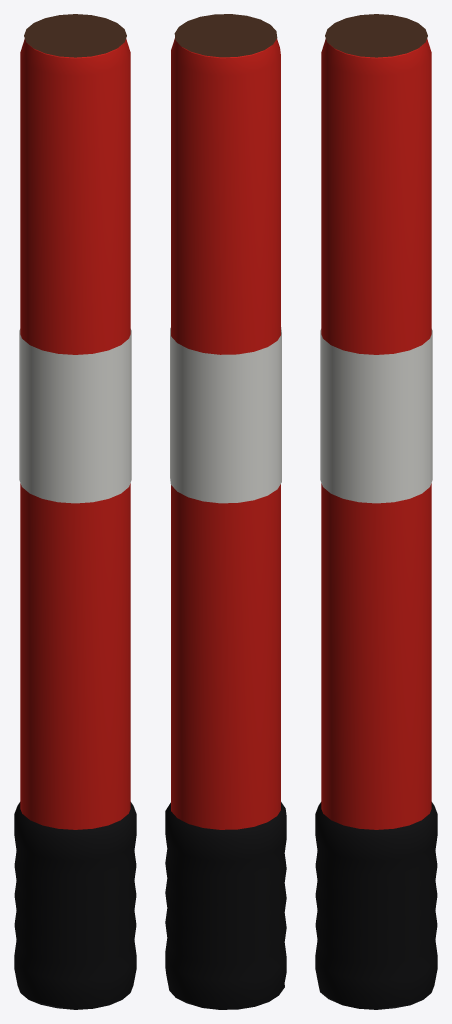
Rendered from flare.glb.
The picture shows the model from 3 angles, left to right: view 1: azimuth 90°, elevation 25°; view 2: azimuth 210°, elevation 25°; view 3: azimuth 270°, elevation 25°; orthographic projection.
Parts seen in each view (by area): view 1: flare; view 2: flare; view 3: flare.
Boxes of the visible parts, bbox=[...] form: flare: bbox=[14, 14, 136, 1009]; flare: bbox=[165, 14, 286, 1009]; flare: bbox=[315, 14, 437, 1009].
Bounding box in the file's own units: 0.0298 × 0.2559 × 0.0298.
